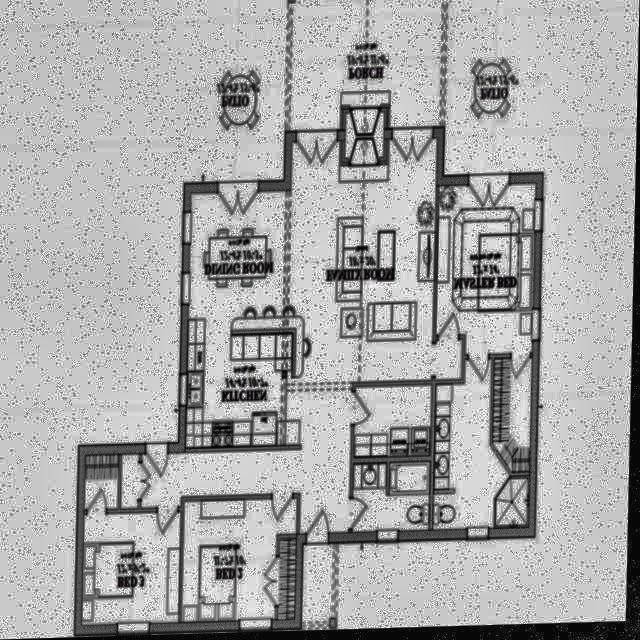room: (122, 133, 469, 540), (437, 178, 537, 364), (436, 362, 533, 534), (185, 493, 299, 624), (85, 506, 183, 626), (352, 388, 435, 460), (349, 465, 433, 534), (494, 362, 533, 476), (87, 455, 121, 517)
